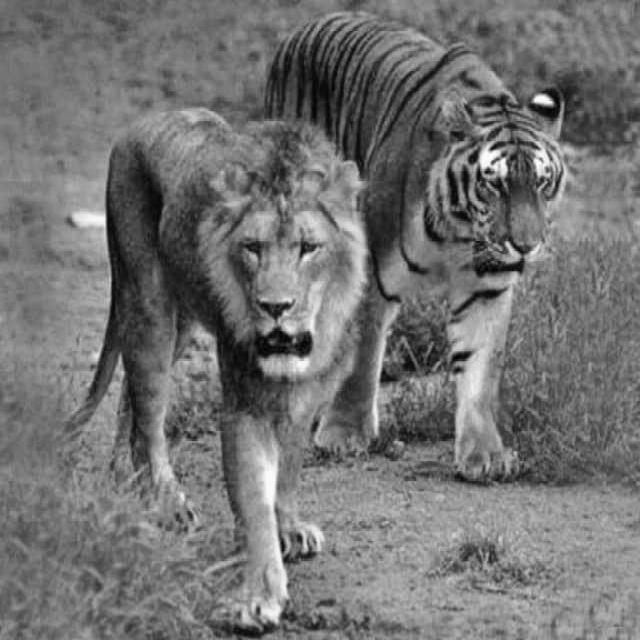Lion: (89, 38, 345, 548)
Tiger: (398, 42, 587, 500)
